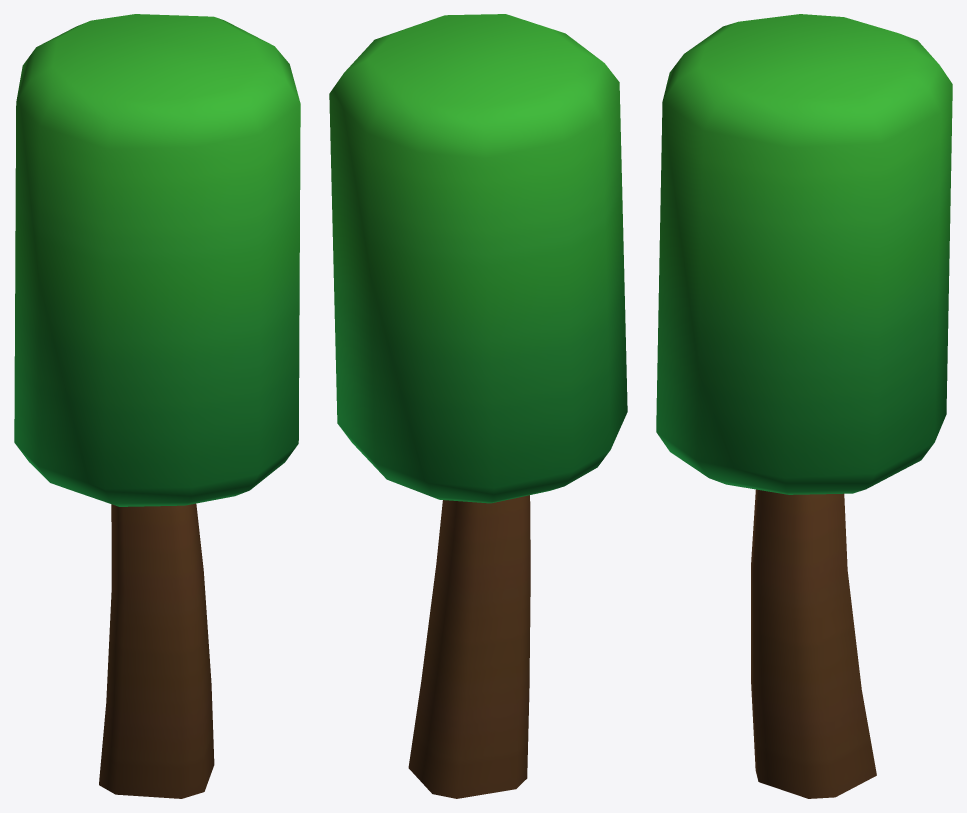
The model's file is Tree_D_1_.fbx.
The picture shows the model from 3 angles, left to right: view 1: azimuth 30°, elevation 25°; view 2: azimuth 150°, elevation 25°; view 3: azimuth 270°, elevation 25°; orthographic projection.
Visible parts, largest first — view 1: Tree_D_1; view 2: Tree_D_1; view 3: Tree_D_1.
Boxes of the visible parts, <box> form: Tree_D_1: <box>14,14,300,798</box>; Tree_D_1: <box>329,14,627,798</box>; Tree_D_1: <box>656,14,952,798</box>.
Bounding box in the file's own units: 127 × 348 × 130.
